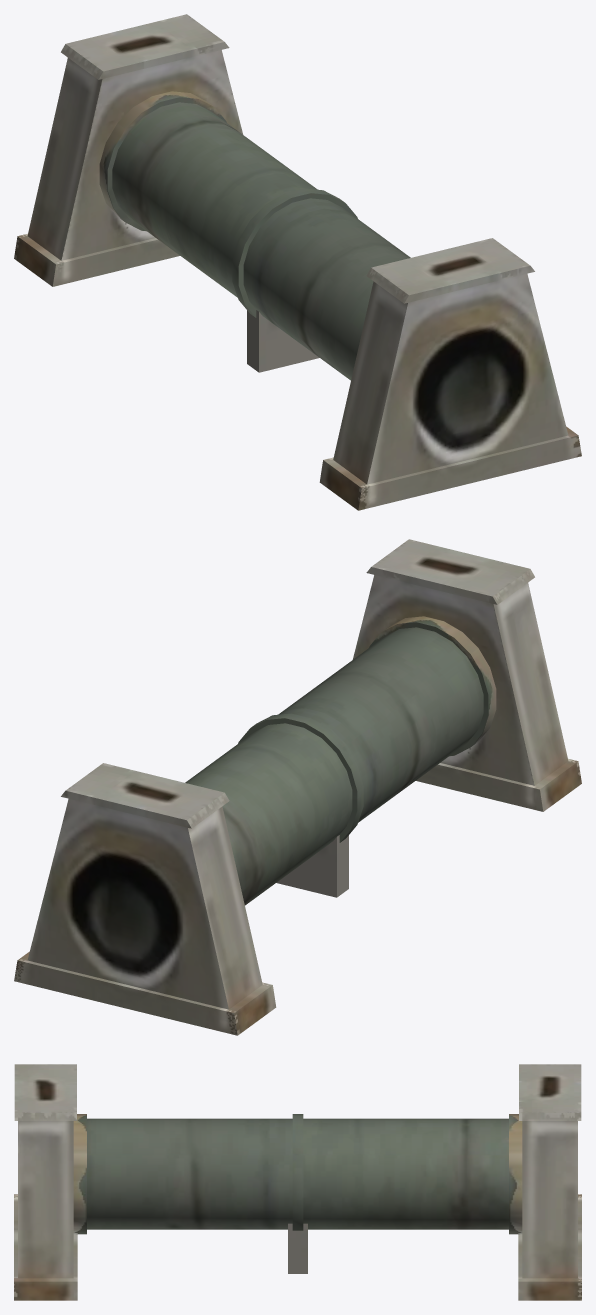
File: straightpipe1_cad.glb
3 renders of one model, top to bottom at view 1: azimuth 30°, elevation 25°; view 2: azimuth 150°, elevation 25°; view 3: azimuth 270°, elevation 25°, orthographic. The views are drawn at different scales.
Parts seen in each view (by area): view 1: Straight1; view 2: Straight1; view 3: Straight1.
Boxes of the visible parts, left/top/right/bottom form: Straight1: left=14, top=14, right=581, bottom=510; Straight1: left=14, top=539, right=581, bottom=1035; Straight1: left=14, top=1064, right=581, bottom=1300.
Size of the model in its own units: 3.24 by 2.81 by 8.64.
Materials: 1 (1 with a texture image).
